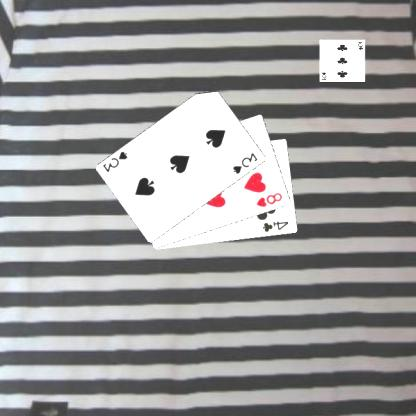3S: (102, 148, 132, 174), (232, 150, 261, 175)
4C: (262, 218, 292, 234)
8H: (256, 190, 286, 209)
